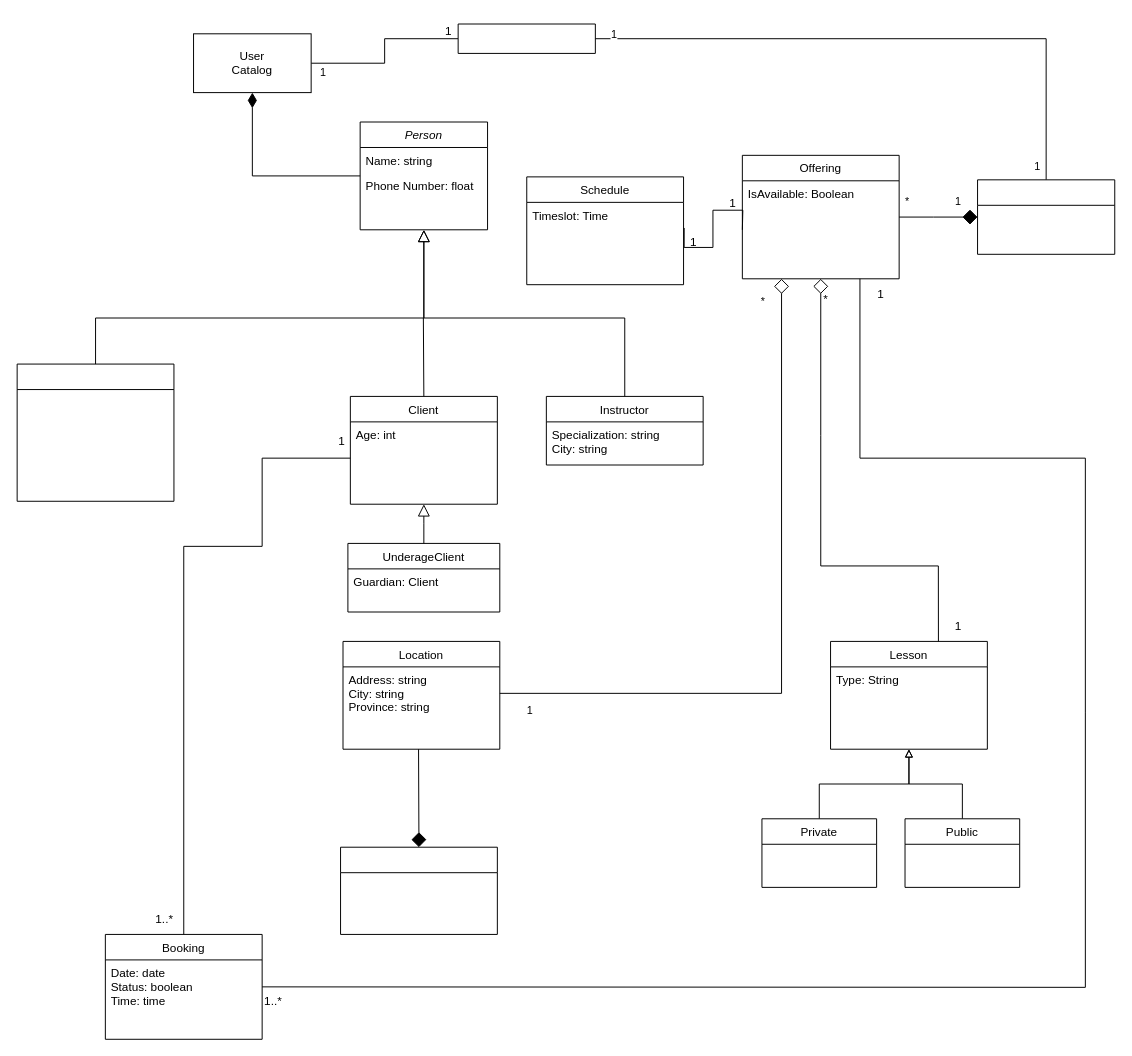
Some shapes in this 1132 by 1056 pixel diagram are drawn without their labels. Each missing label, with the centre of its shape:
"Admin" belongs at (x=95, y=432).
"Console" belongs at (x=526, y=38).
"LocationCatalog" belongs at (x=418, y=890).
"OfferingsCatalog" belongs at (x=1046, y=216).
